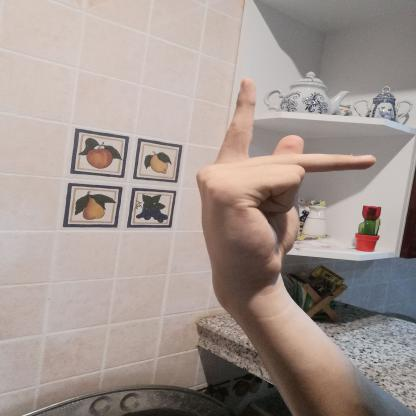DHAA: (178, 68, 392, 300)
